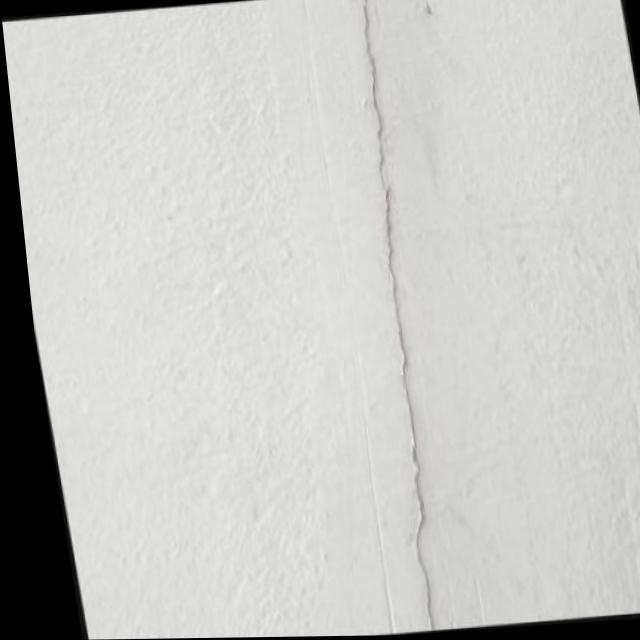Crack: (358, 1, 437, 619)
